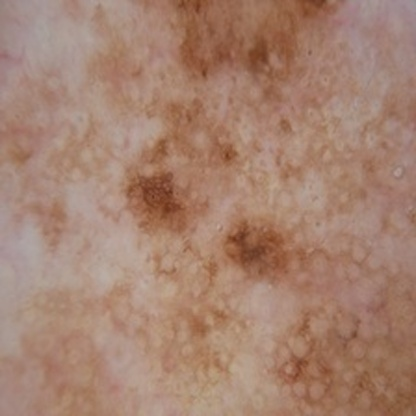malignant: (116, 102, 313, 291), (150, 5, 357, 83)
